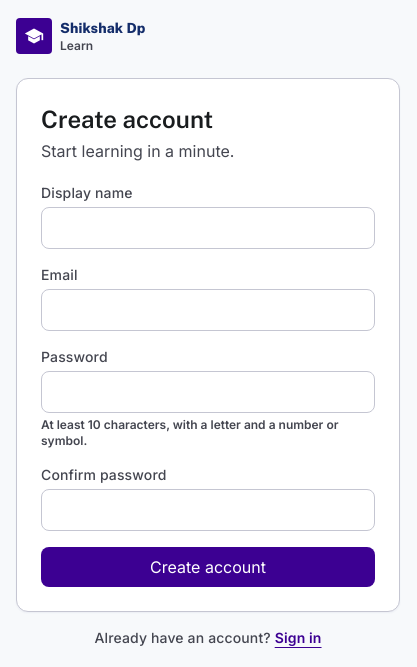
Test: RegisterPage › mirrors the server password rule and confirm match
Type "New Learner" into the field labelled "Display name". click: point(208, 228)
box: 41,207 -> 375,249
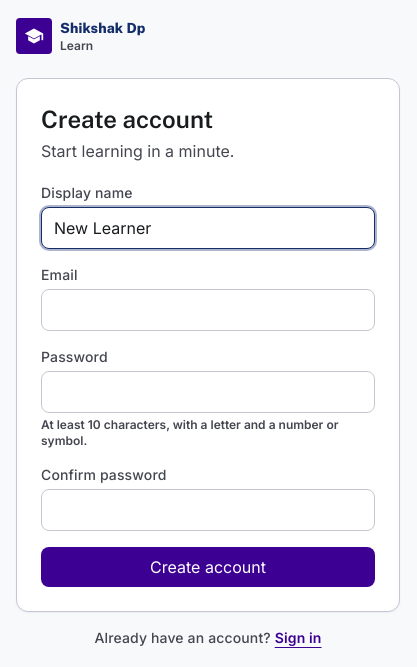
Type "new@example.com" into the field labelled "Email". click: point(208, 310)
box: 41,289 -> 375,331
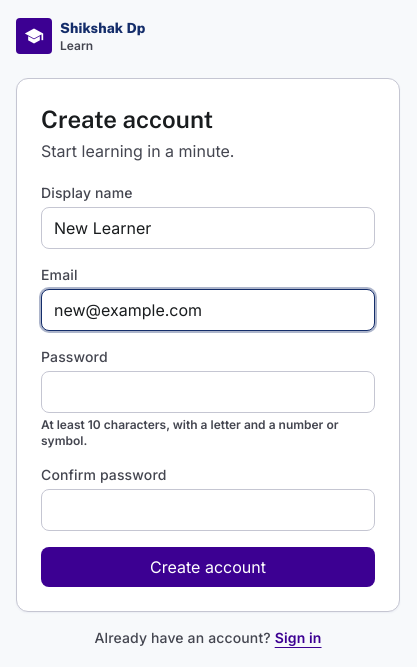
Type "short" into the password field labelled "Password". click: point(208, 392)
box: 41,371 -> 375,413
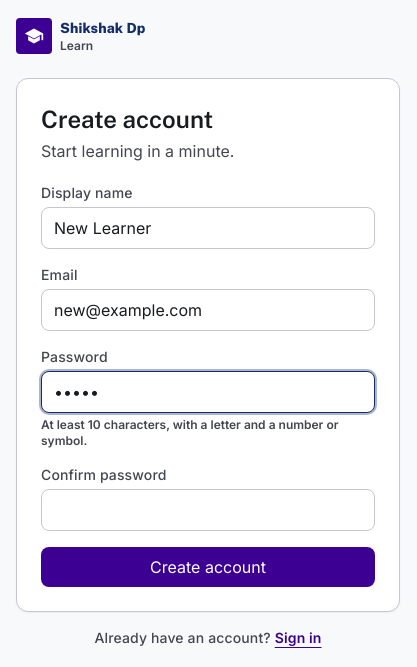
Type "different" into the password field labelled "Confirm password". click: point(208, 510)
box: 41,489 -> 375,531
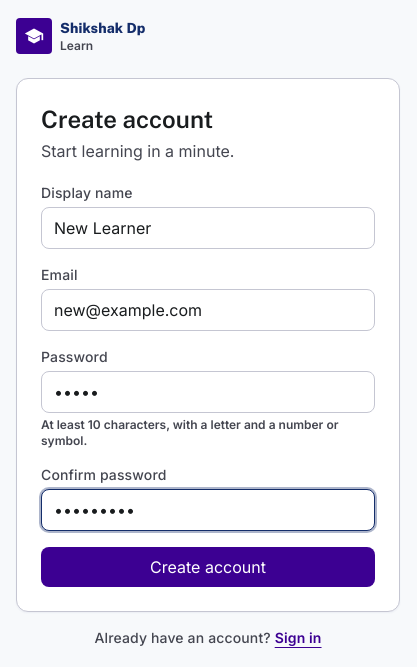
Click the button with test id "btn-sl1". click: point(208, 567)
box: 41,547 -> 375,587
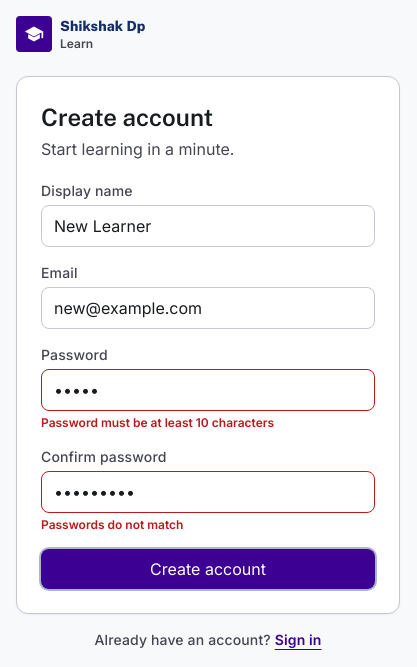
Check: the text "Password must be at least 10 characters" is shown, box 41,415 -> 274,430
Check: the text "Passwords do not match" is shown, box 41,517 -> 183,532
